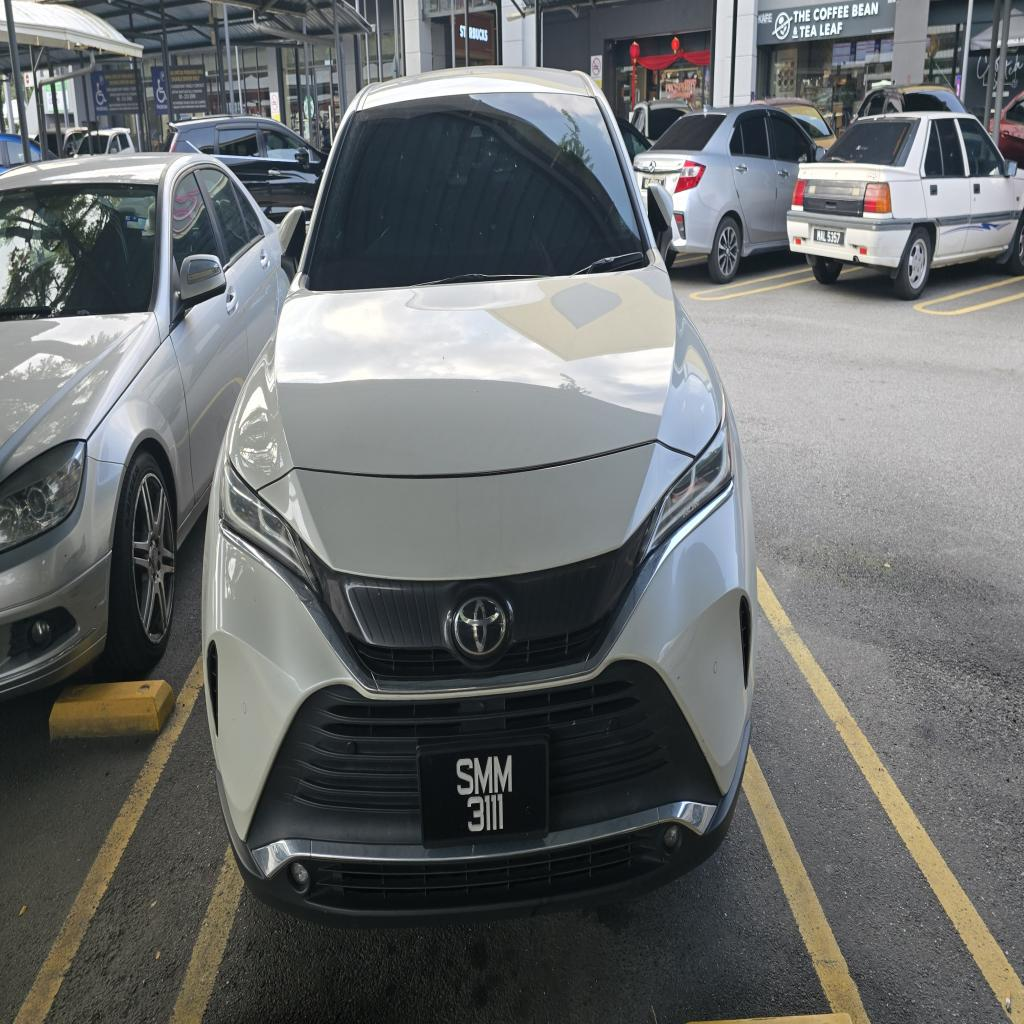car: (202, 67, 756, 923)
car plate: (418, 739, 548, 845)
